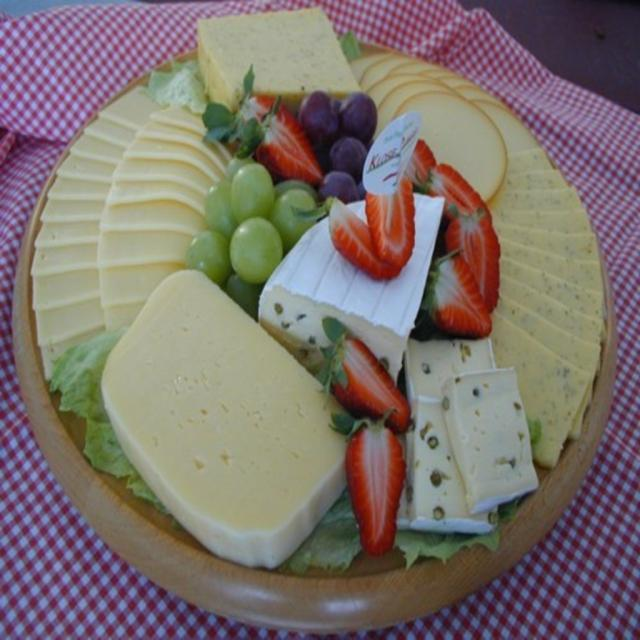Cheese: (96, 266, 355, 572), (255, 192, 447, 381), (394, 333, 540, 535), (197, 3, 361, 115)
